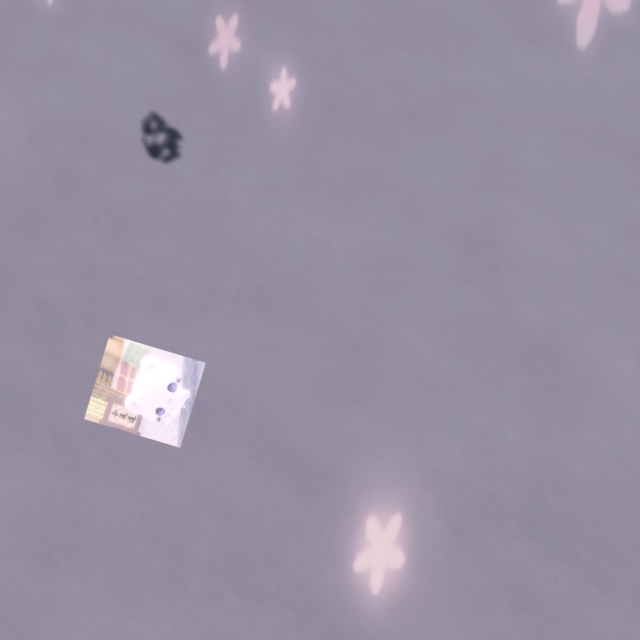urso_branco: (84, 334, 206, 448)
urso_preto: (128, 102, 193, 171)
